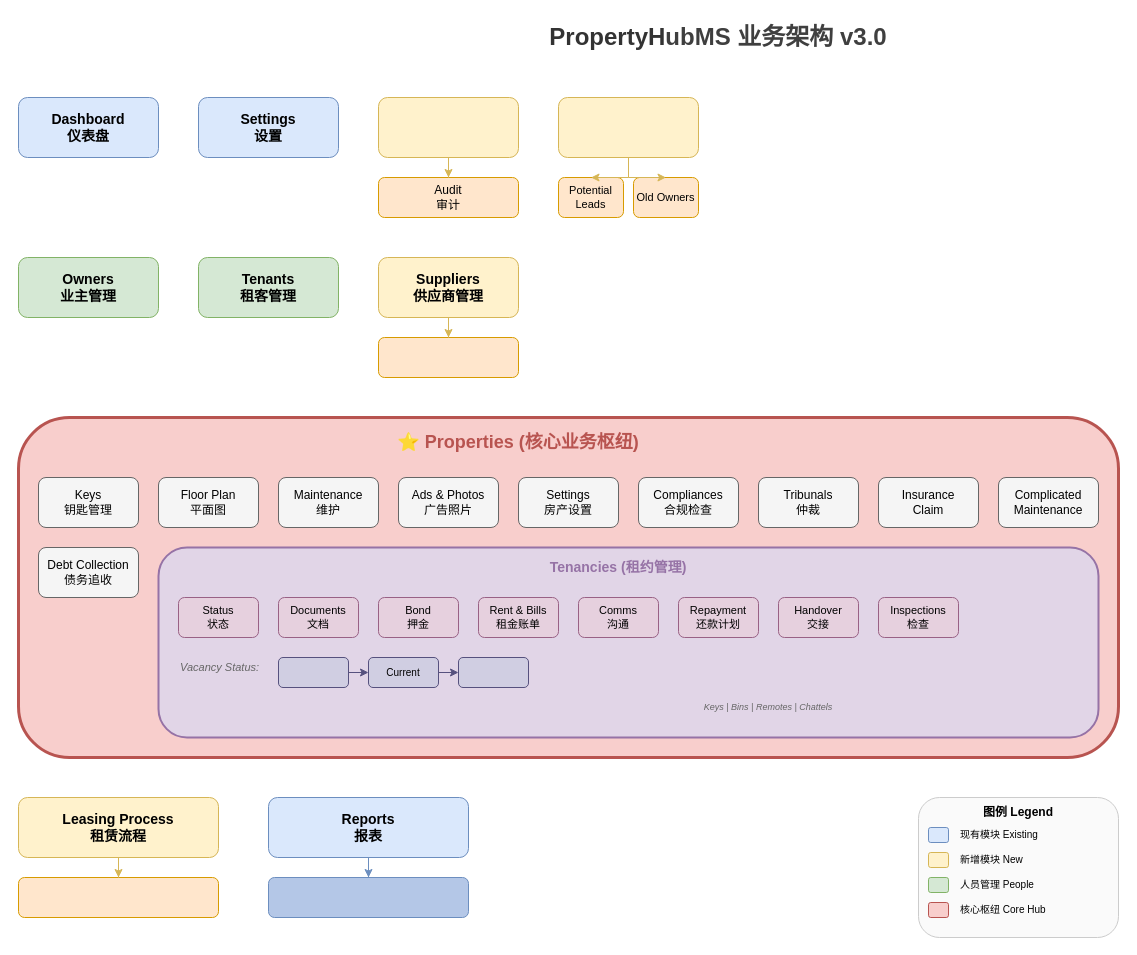
Image size: 1137x955. Some labels were removed from this diagram. Here are the shapes that lost their labels. From the top down, the box of each, then its label:
(378, 96, 518, 158): Accounting 财务会计
(558, 96, 698, 158): Marketing 营销
(378, 336, 518, 378): Quote → Assign → Complete → Review
(278, 656, 348, 688): Moving In
(458, 656, 528, 688): Moving Out
(18, 876, 218, 918): Listing → Viewing → Application → Agreement
(268, 876, 468, 918): IRD Related Reports (Yearly Financial)
